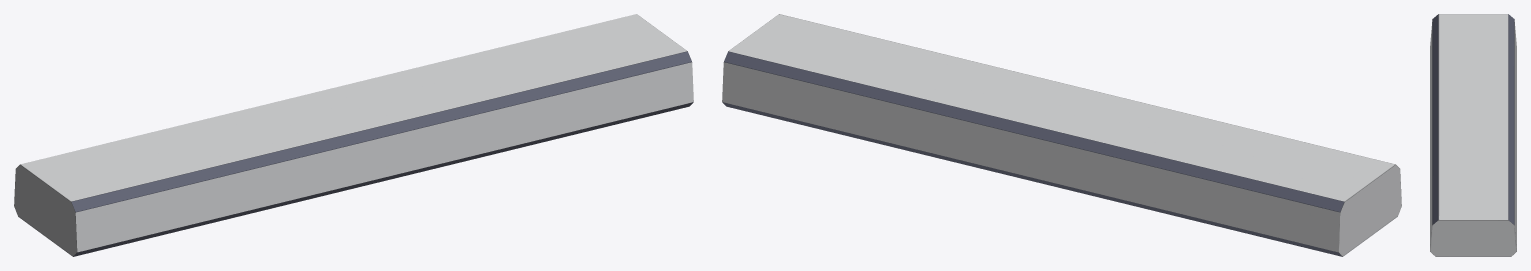
File: Arch_Line_01.FBX
3 views of the same model, side by side, from view 1: azimuth 30°, elevation 25°; view 2: azimuth 150°, elevation 25°; view 3: azimuth 270°, elevation 25° (orthographic). The views are drawn at different scales.
Parts seen in each view (by area): view 1: Arch_Line_01; view 2: Arch_Line_01; view 3: Arch_Line_01.
Part boxes in pixels (<box>): Arch_Line_01: <box>14,14,693,256</box>; Arch_Line_01: <box>722,14,1401,256</box>; Arch_Line_01: <box>1430,14,1516,256</box>.
Size of the model in its own units: 6 by 0.6122 by 1.07.
Materials: 1 (1 with a texture image).
